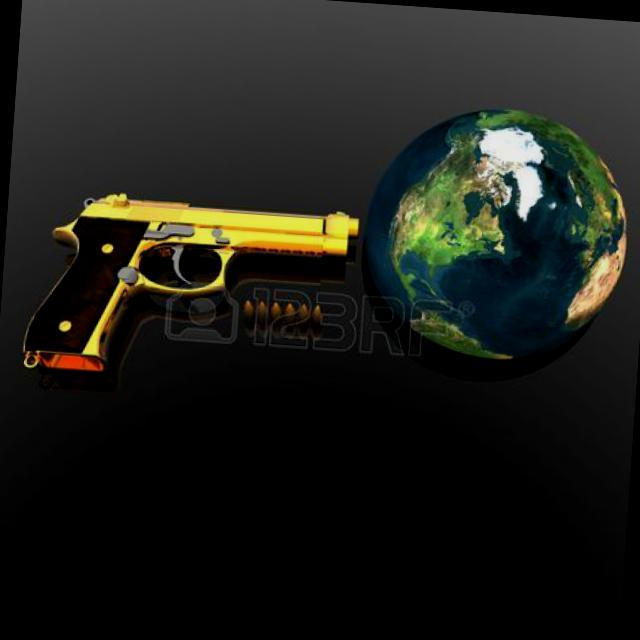handgun: (18, 158, 358, 394)
